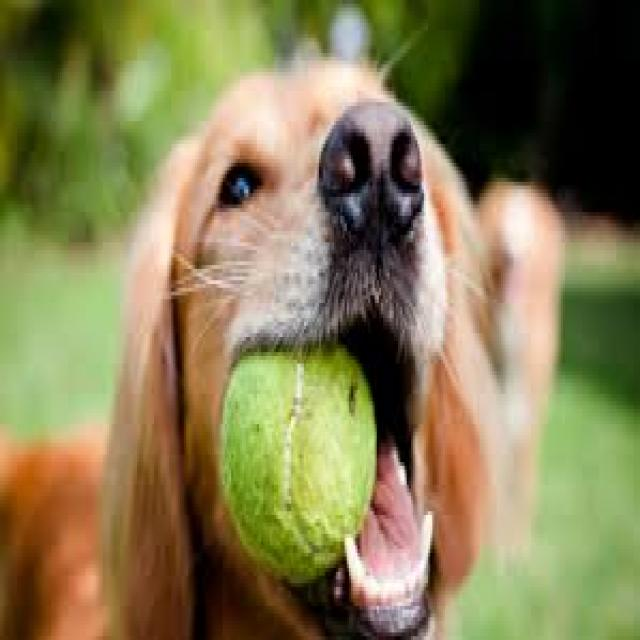Tennis-Ball: (214, 338, 388, 581)
